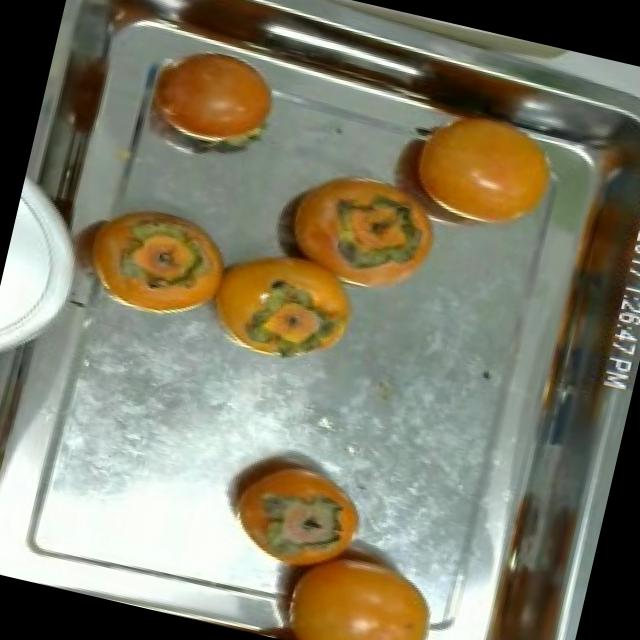Fruit: (362, 88, 582, 264), (57, 182, 249, 341), (262, 157, 458, 309), (203, 432, 382, 586), (248, 519, 460, 640), (129, 31, 295, 173)
